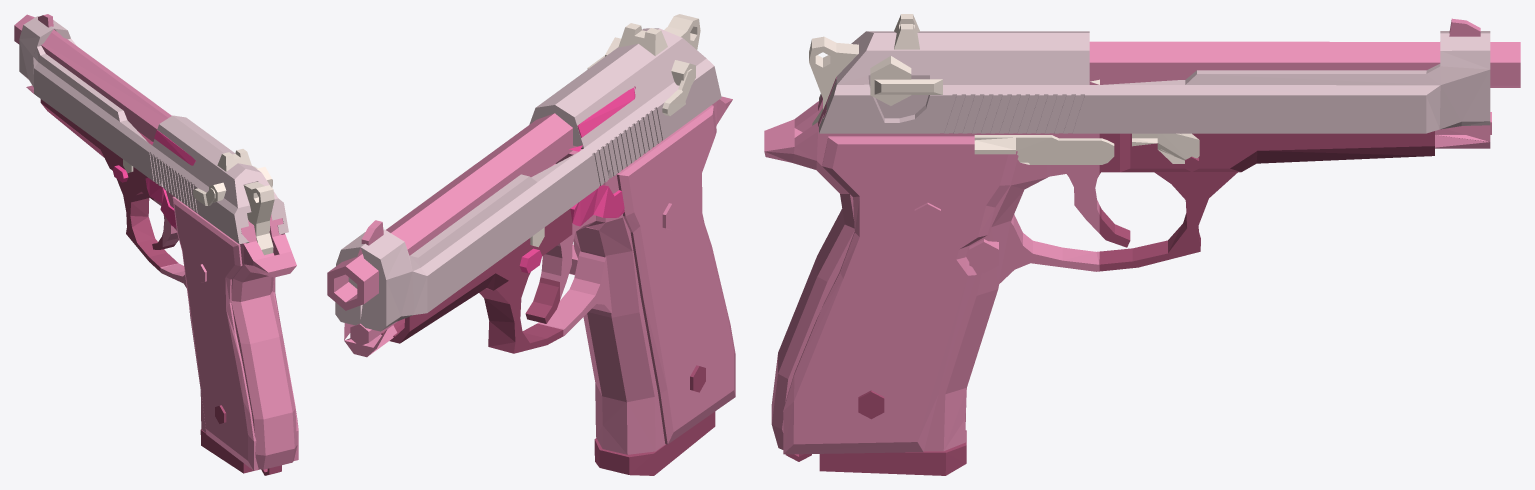
The model's file is Pistol_M9.obj.
The picture shows the model from 3 angles, left to right: view 1: azimuth 30°, elevation 25°; view 2: azimuth 150°, elevation 25°; view 3: azimuth 270°, elevation 25°; orthographic projection. The views are drawn at different scales.
Visible parts, largest first — view 1: Body, Slide, Mag, Panel, Accent, Grip; view 2: Body, Slide, Mag, Panel, Grip, Accent; view 3: Body, Slide, Mag, Panel, Grip.
Part boxes in pixels (x1=…): Body: x1=14, y1=14, x2=298, y2=470; Slide: x1=19, y1=16, x2=288, y2=244; Mag: x1=40, y1=99, x2=177, y2=271; Panel: x1=123, y1=149, x2=274, y2=255; Accent: x1=112, y1=130, x2=195, y2=228; Grip: x1=200, y1=405, x2=281, y2=475; Body: x1=327, y1=96, x2=735, y2=454; Slide: x1=335, y1=28, x2=721, y2=331; Mag: x1=381, y1=209, x2=572, y2=353; Panel: x1=530, y1=14, x2=700, y2=247; Grip: x1=594, y1=365, x2=715, y2=475; Accent: x1=519, y1=86, x2=635, y2=273; Body: x1=764, y1=18, x2=1520, y2=454; Slide: x1=819, y1=31, x2=1490, y2=133; Mag: x1=1099, y1=131, x2=1434, y2=271; Panel: x1=809, y1=14, x2=1199, y2=164; Grip: x1=785, y1=390, x2=966, y2=475.
Bounding box in the file's own units: 0.2001 × 0.964 × 1.5.
